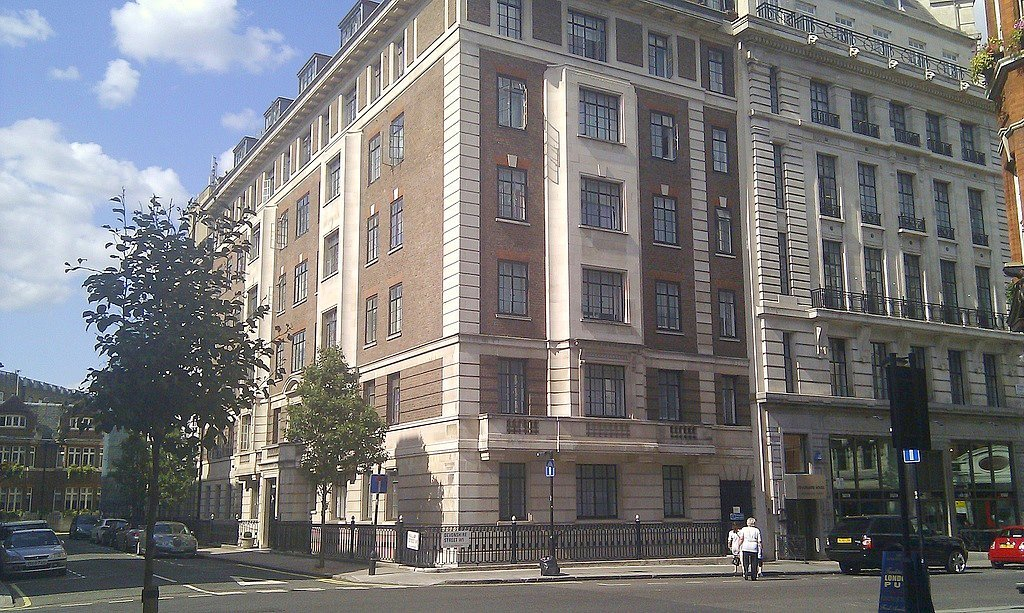Car: (826, 513, 967, 571), (0, 519, 67, 571), (133, 525, 199, 554), (986, 525, 1022, 566), (72, 513, 92, 537), (99, 516, 120, 537)
